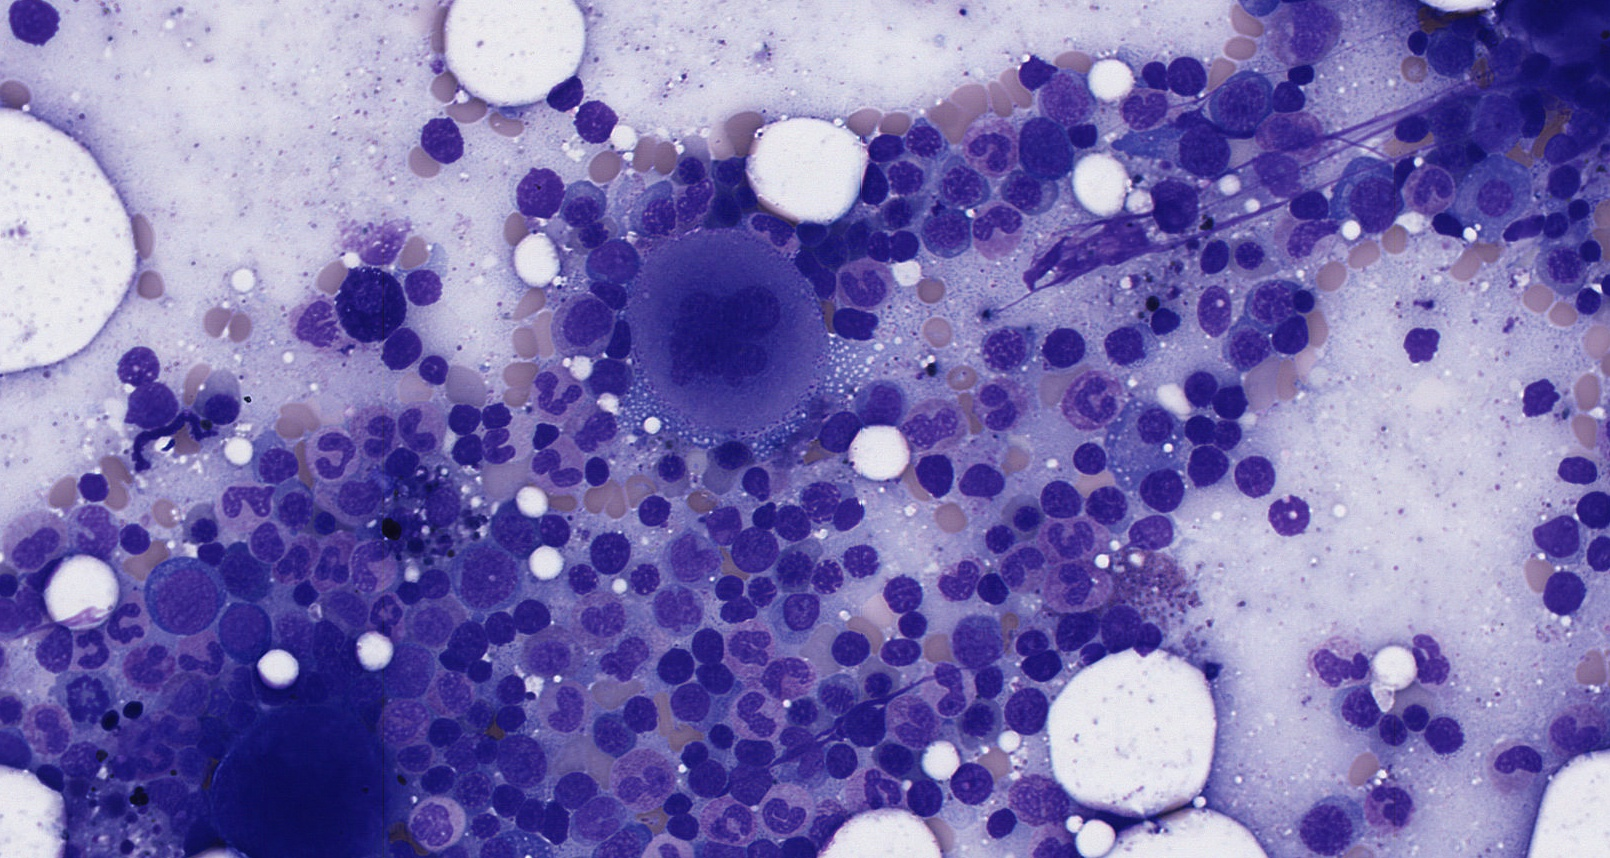objectness: (1130, 402, 1180, 452), (599, 630, 650, 680), (778, 730, 828, 780), (73, 506, 124, 556), (1041, 73, 1091, 123), (566, 797, 617, 847), (648, 587, 699, 637), (666, 533, 716, 583), (973, 115, 1023, 165), (1258, 110, 1308, 160), (306, 526, 356, 576), (356, 406, 406, 456), (221, 468, 272, 518), (387, 699, 437, 749), (1373, 778, 1423, 828), (1308, 637, 1358, 687), (276, 528, 326, 578), (530, 380, 580, 430), (970, 194, 1020, 244), (72, 621, 122, 671), (614, 760, 664, 810), (1404, 153, 1455, 203), (725, 684, 775, 735), (756, 642, 806, 692), (527, 438, 577, 488), (905, 695, 955, 745), (707, 783, 757, 834), (387, 409, 437, 459), (844, 263, 894, 313), (982, 384, 1032, 434), (91, 604, 141, 654), (714, 620, 765, 670), (1046, 523, 1096, 573), (1061, 380, 1111, 430), (286, 302, 336, 352), (747, 200, 798, 250), (117, 642, 167, 692), (181, 632, 231, 682), (27, 703, 77, 753), (359, 577, 409, 627), (470, 428, 520, 478), (760, 793, 810, 843), (524, 627, 574, 677), (426, 667, 476, 717), (404, 599, 454, 649), (559, 296, 609, 346), (1283, 0, 1333, 50), (1494, 733, 1544, 783), (408, 796, 458, 846), (993, 537, 1044, 587), (911, 400, 962, 450), (543, 683, 593, 733), (580, 597, 630, 647), (1119, 84, 1169, 134), (6, 519, 56, 570), (1546, 712, 1596, 762), (1021, 123, 1071, 174), (463, 551, 513, 601), (592, 234, 642, 284), (1256, 148, 1307, 198), (109, 710, 159, 760), (740, 489, 790, 539), (851, 160, 901, 210), (87, 779, 137, 829), (1430, 30, 1480, 80), (508, 794, 558, 844), (195, 676, 245, 726), (214, 659, 264, 709), (1389, 102, 1439, 152), (216, 689, 266, 739), (190, 713, 240, 763), (607, 162, 657, 212), (393, 732, 443, 782), (1066, 432, 1116, 482), (789, 248, 839, 298), (1543, 158, 1593, 208), (704, 559, 754, 609), (12, 0, 62, 50), (1157, 50, 1207, 100), (706, 146, 756, 196), (865, 121, 915, 171), (965, 656, 1015, 706), (1069, 630, 1119, 680), (811, 227, 861, 277), (385, 645, 436, 695), (1019, 639, 1069, 689), (375, 324, 425, 374), (1098, 598, 1148, 648), (566, 212, 617, 262), (1393, 19, 1443, 69), (474, 392, 524, 442), (1485, 24, 1535, 75), (722, 757, 772, 807), (629, 485, 679, 535), (461, 722, 511, 772), (1422, 201, 1472, 251), (1437, 90, 1488, 141), (570, 446, 620, 496), (453, 688, 503, 738), (1003, 688, 1053, 738), (1268, 491, 1318, 541), (1130, 50, 1180, 100), (383, 568, 433, 618), (441, 393, 491, 443), (187, 532, 237, 582), (415, 757, 465, 807), (666, 729, 716, 779), (455, 646, 505, 696), (544, 72, 594, 122), (1008, 44, 1058, 94), (1280, 211, 1330, 261), (804, 801, 854, 851), (1544, 120, 1594, 170), (729, 524, 779, 574), (68, 461, 118, 511), (1061, 111, 1111, 161), (947, 757, 997, 807), (821, 486, 871, 537), (354, 221, 404, 271), (1518, 370, 1568, 420), (899, 773, 949, 823), (219, 546, 269, 596), (127, 379, 177, 429), (408, 557, 458, 607), (1032, 472, 1082, 522), (1393, 318, 1443, 368), (1202, 409, 1252, 459), (1190, 288, 1241, 339), (968, 565, 1018, 615), (1557, 183, 1607, 233), (437, 617, 487, 667), (1532, 199, 1582, 249), (141, 769, 191, 819), (530, 799, 580, 849), (493, 736, 543, 786), (736, 456, 786, 506), (582, 525, 632, 575), (713, 589, 763, 639), (597, 315, 647, 365), (1473, 95, 1523, 145), (1431, 135, 1481, 185), (1288, 181, 1338, 231), (170, 739, 220, 789), (1151, 179, 1201, 229), (856, 222, 906, 273), (481, 776, 531, 826), (400, 261, 450, 311), (410, 343, 460, 393), (308, 628, 358, 678), (1511, 90, 1561, 141), (816, 738, 866, 788), (1538, 567, 1588, 617), (705, 184, 755, 234), (1391, 688, 1441, 738), (346, 273, 396, 323), (1174, 405, 1225, 455), (1204, 376, 1254, 426), (1280, 274, 1330, 324), (1190, 230, 1241, 280), (1126, 556, 1176, 606), (108, 515, 158, 565), (129, 741, 179, 791), (835, 212, 885, 262), (6, 580, 56, 630), (1552, 444, 1603, 494), (420, 704, 470, 754), (702, 501, 752, 551), (787, 208, 837, 258), (1140, 296, 1190, 346), (668, 181, 718, 231), (1127, 612, 1177, 662), (429, 638, 479, 688), (569, 96, 619, 146), (585, 268, 635, 318), (878, 222, 929, 273), (414, 110, 464, 160), (910, 448, 960, 498), (486, 664, 536, 714), (298, 500, 348, 550), (1277, 50, 1327, 100), (710, 428, 760, 478), (30, 628, 80, 678), (1265, 312, 1315, 362), (240, 518, 290, 568), (1007, 618, 1057, 669), (1230, 449, 1280, 499), (1184, 439, 1234, 489), (1498, 203, 1548, 253), (877, 627, 927, 677), (418, 479, 469, 529), (153, 709, 203, 759), (513, 164, 563, 214), (1515, 33, 1565, 83), (892, 601, 942, 651), (444, 423, 494, 473), (884, 571, 934, 621), (568, 402, 618, 452), (519, 409, 569, 459), (174, 403, 224, 453), (954, 456, 1004, 506), (61, 670, 111, 720), (117, 340, 167, 390), (112, 426, 162, 476), (1051, 603, 1101, 653), (667, 679, 717, 729), (1138, 465, 1188, 515), (656, 801, 706, 851), (1126, 506, 1176, 556), (1179, 123, 1229, 174), (693, 651, 743, 702), (826, 623, 876, 673), (648, 640, 699, 690), (1036, 320, 1086, 370), (860, 381, 910, 431), (815, 408, 865, 458), (729, 724, 779, 774), (765, 499, 815, 549), (776, 585, 826, 636), (681, 618, 732, 669), (1000, 492, 1050, 542), (1540, 238, 1590, 288), (999, 163, 1049, 213), (769, 544, 819, 594), (881, 150, 931, 200), (1370, 703, 1420, 753), (1081, 480, 1131, 530), (854, 660, 904, 710), (1302, 805, 1352, 855), (553, 186, 603, 236), (806, 550, 856, 600), (252, 439, 302, 489), (796, 473, 847, 523), (667, 145, 717, 195), (815, 666, 865, 716), (1102, 320, 1152, 370), (1247, 276, 1297, 326), (195, 383, 245, 433), (777, 684, 827, 735), (940, 156, 990, 207), (874, 185, 924, 235), (955, 695, 1005, 745), (1213, 76, 1263, 126), (1226, 230, 1276, 280), (896, 114, 946, 164), (1347, 175, 1397, 225), (1471, 169, 1521, 219), (980, 321, 1030, 372), (735, 564, 785, 614), (159, 570, 209, 620), (619, 552, 669, 603), (451, 766, 502, 816), (976, 514, 1026, 564), (631, 189, 681, 240), (268, 480, 318, 530), (557, 552, 607, 603), (586, 709, 636, 759), (647, 441, 697, 491), (872, 736, 922, 786), (922, 202, 972, 252), (1335, 681, 1385, 731), (1227, 320, 1277, 370), (695, 308, 745, 358), (276, 769, 326, 819), (1059, 561, 1108, 611), (929, 665, 978, 715), (139, 405, 188, 455), (24, 754, 73, 804), (699, 709, 747, 759), (829, 297, 878, 347), (457, 801, 507, 849), (841, 702, 891, 750), (55, 735, 105, 783), (836, 537, 886, 585), (91, 747, 139, 797), (436, 730, 484, 780), (377, 438, 427, 486), (484, 694, 533, 744), (1174, 361, 1223, 411), (723, 174, 773, 222), (974, 801, 1024, 849), (283, 570, 333, 618), (551, 762, 599, 812), (584, 351, 632, 401), (1537, 509, 1586, 559), (333, 471, 383, 519), (617, 688, 666, 738), (1422, 706, 1471, 756), (177, 504, 227, 552), (1564, 275, 1610, 325), (1566, 225, 1610, 275), (112, 815, 162, 858), (598, 819, 648, 858), (1572, 483, 1610, 533), (771, 821, 821, 858), (1026, 823, 1077, 858), (471, 824, 521, 858), (1576, 526, 1610, 576), (738, 825, 788, 858), (0, 686, 33, 736), (0, 560, 31, 610)
